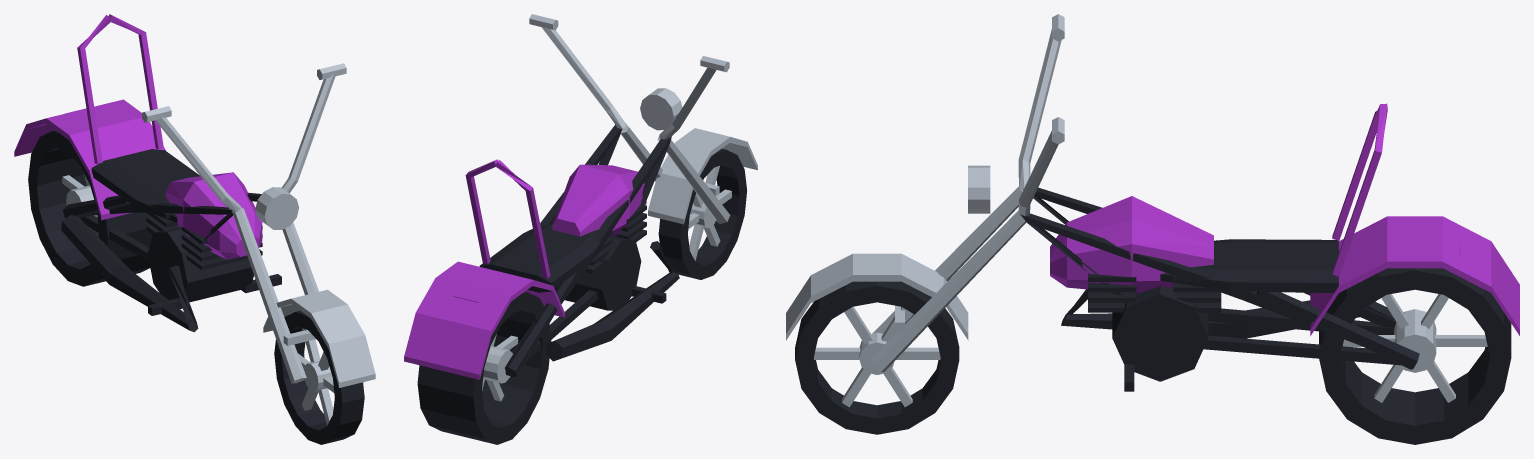
The model's file is chopper.glb.
3 renders of one model, left to right at view 1: azimuth 30°, elevation 25°; view 2: azimuth 150°, elevation 25°; view 3: azimuth 270°, elevation 25°, orthographic. The views are drawn at different scales.
Visible parts, largest first — view 1: bike_body, fork_mesh, wheel_rear, wheel_front; view 2: bike_body, wheel_rear, fork_mesh, wheel_front; view 3: bike_body, wheel_rear, fork_mesh, wheel_front.
Boxes of the visible parts, box(x1,y1,x2,y2) form: bike_body: box(14, 14, 281, 332); fork_mesh: box(142, 63, 375, 387); wheel_rear: box(28, 130, 152, 286); wheel_front: box(274, 310, 364, 444); bike_body: box(404, 125, 679, 379); wheel_rear: box(417, 291, 551, 444); fork_mesh: box(529, 14, 757, 224); wheel_front: box(658, 148, 747, 279); bike_body: box(1021, 103, 1519, 391); wheel_rear: box(1319, 268, 1511, 444); fork_mesh: box(786, 14, 1064, 372); wheel_front: box(795, 281, 959, 434).
Size of the model in its own units: 0.98 by 1.39 by 2.59.
